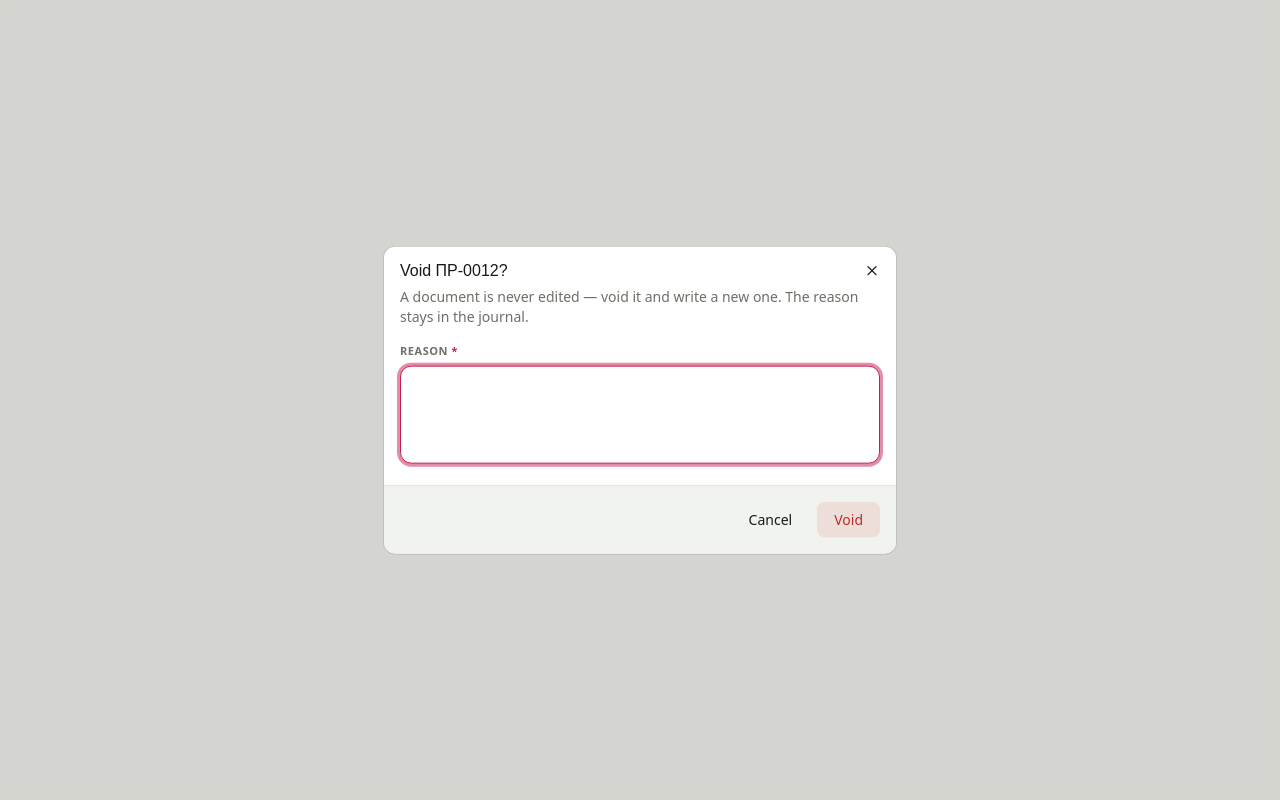
Test: VoidDocumentDialog › voids with the typed reason, toasts, and closes
Type "помилка у вазі" into the text box labelled "Reason" at coordinates (640, 414), box [400,365,880,463]
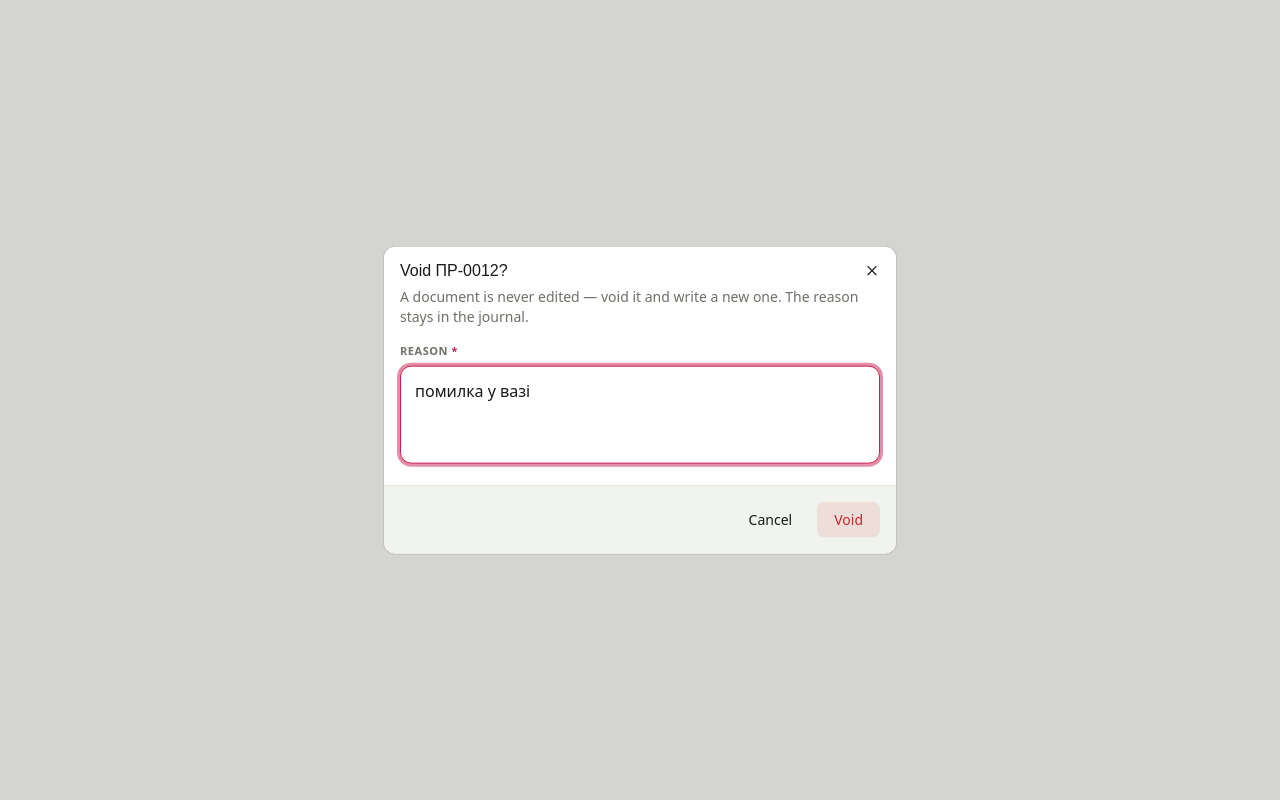
Click the button "Void" at coordinates (849, 519), box [817,501,880,537]
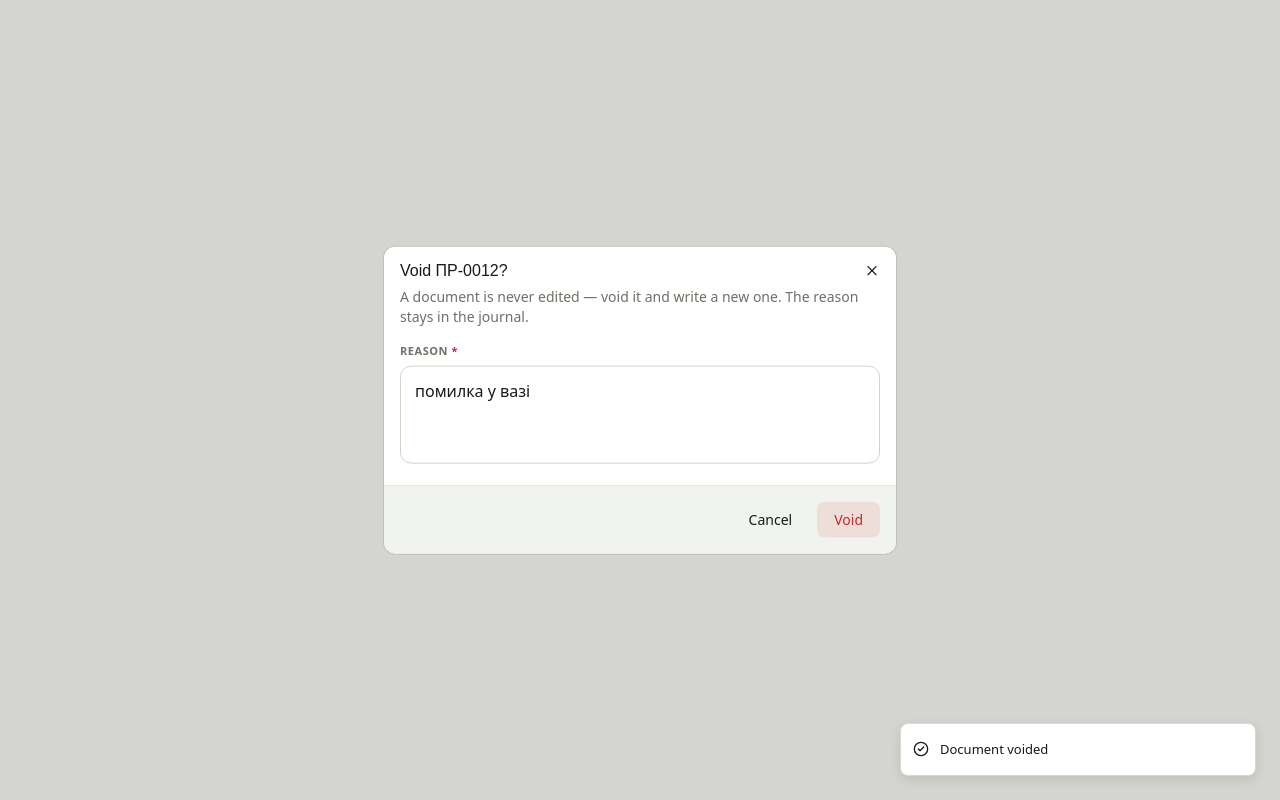
Now the text "Document voided" is shown, box [940,740,1048,759]
